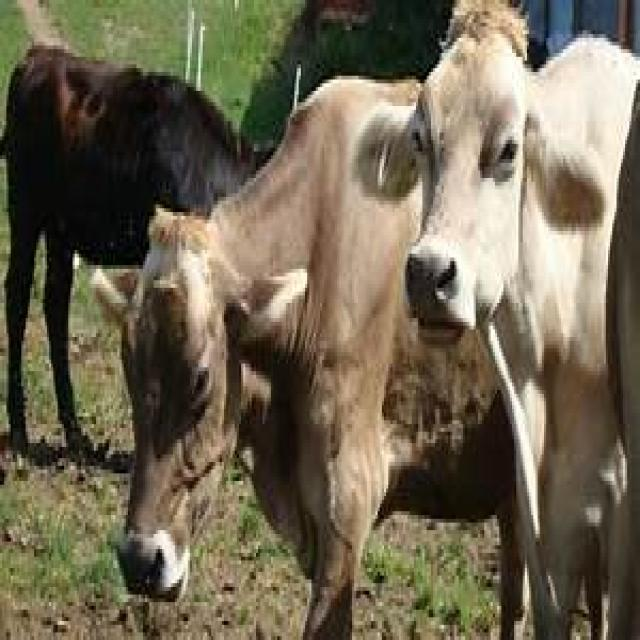cow: (117, 76, 514, 640), (403, 0, 640, 640), (2, 45, 275, 458)
